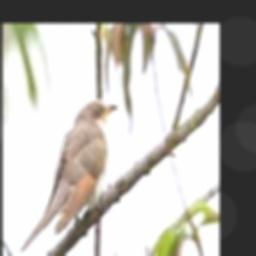Cuckoo: (19, 100, 118, 253)
